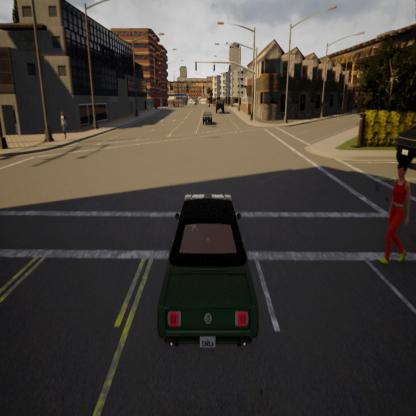Cars: (141, 167, 266, 352), (381, 96, 416, 172), (212, 91, 231, 116), (198, 109, 216, 133)
Pedestrian: (384, 158, 412, 262), (59, 97, 72, 141)
